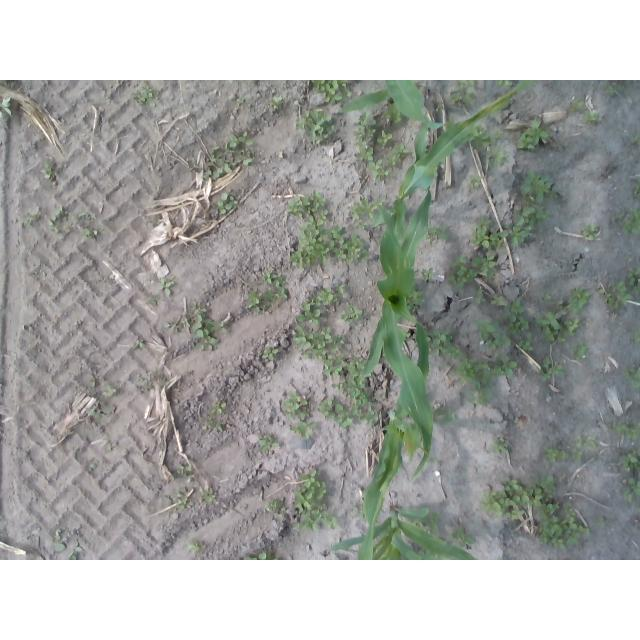Maize: (369, 80, 535, 246), (358, 185, 447, 481), (358, 322, 430, 560), (341, 81, 488, 142), (329, 505, 480, 560)
Weeds: (294, 326, 380, 427), (482, 474, 591, 550), (289, 210, 368, 269), (354, 109, 409, 179), (472, 205, 552, 250), (188, 132, 253, 181), (296, 470, 337, 531), (298, 284, 345, 326), (190, 301, 227, 351), (248, 269, 289, 311), (297, 109, 336, 143), (477, 316, 511, 353), (319, 395, 354, 429), (521, 169, 556, 203), (426, 328, 462, 361), (286, 189, 326, 215), (312, 80, 353, 104), (517, 118, 548, 149), (598, 282, 631, 311), (455, 358, 489, 385), (450, 255, 477, 288), (460, 126, 502, 146), (350, 198, 383, 223), (282, 392, 310, 421), (536, 312, 563, 341), (48, 207, 76, 233), (468, 380, 497, 405), (451, 80, 478, 106), (473, 253, 499, 279), (539, 358, 565, 382), (617, 209, 640, 236), (131, 85, 155, 108), (494, 354, 518, 376), (170, 488, 186, 519), (486, 147, 508, 169), (453, 526, 476, 547), (571, 288, 590, 313), (621, 447, 640, 472), (219, 190, 238, 214), (621, 363, 639, 388), (622, 478, 640, 503), (508, 315, 529, 336), (436, 407, 457, 427), (290, 422, 314, 439), (428, 223, 449, 241), (408, 288, 424, 311), (237, 552, 277, 561), (261, 435, 280, 453), (384, 102, 401, 122), (87, 407, 117, 418), (136, 375, 153, 393), (564, 319, 581, 337), (572, 341, 588, 360), (492, 437, 508, 456), (422, 513, 438, 532), (342, 307, 363, 321), (162, 317, 183, 331), (582, 223, 598, 241), (53, 528, 66, 550), (626, 266, 640, 286), (575, 435, 595, 448), (546, 449, 567, 461), (376, 131, 392, 146), (200, 488, 217, 502), (1, 97, 12, 118), (70, 541, 82, 560), (263, 346, 279, 360), (159, 279, 173, 295), (25, 212, 37, 229), (491, 297, 509, 308), (518, 338, 532, 352), (512, 299, 525, 314), (81, 227, 100, 237), (624, 427, 637, 441), (352, 505, 365, 519), (420, 269, 434, 282), (187, 542, 202, 554), (211, 403, 227, 414), (475, 290, 485, 307), (269, 96, 283, 108), (177, 464, 192, 475), (103, 384, 116, 396), (468, 175, 481, 187), (572, 100, 584, 113), (267, 499, 278, 513), (41, 165, 52, 179), (79, 212, 96, 221), (208, 423, 224, 432), (584, 110, 596, 122), (147, 294, 158, 306), (615, 421, 626, 432), (571, 449, 582, 460), (132, 339, 144, 349), (497, 81, 511, 88), (87, 374, 95, 386), (109, 442, 120, 450), (633, 330, 640, 342), (605, 86, 615, 94), (634, 284, 640, 297), (632, 136, 640, 145), (90, 464, 97, 472), (545, 294, 552, 299), (237, 99, 243, 104)
